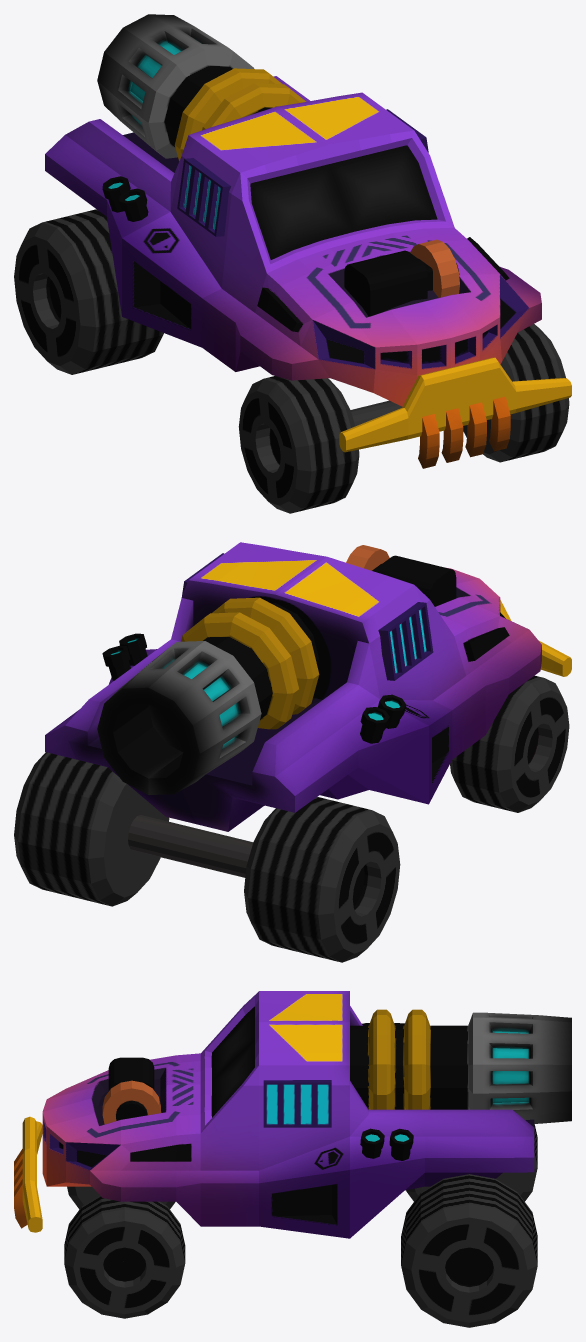
The model's file is tiny-racer-9.glb.
3 views of the same model, one above another, from view 1: azimuth 30°, elevation 25°; view 2: azimuth 150°, elevation 25°; view 3: azimuth 270°, elevation 25° (orthographic). The views are drawn at different scales.
Visible parts, largest first — view 1: Cube.216, wheel_0, Cylinder.248, wheel_1, Plane.044, Cube.213, Cube.214, Cube.215, Cylinder.247, Cylinder.249; view 2: Cube.216, wheel_1, Cylinder.248, wheel_0, Cube.215, Cylinder.249, Cube.213, Plane.044, Cylinder.247; view 3: Cube.216, Cylinder.248, wheel_1, wheel_0, Cube.215, Plane.044, Cylinder.247, Cylinder.249, Cube.213, Cube.214.
Boxes of the visible parts, x1,y1,x2,y2 form: Cube.216: (45,76,541,406); wheel_0: (238,324,569,513); Cylinder.248: (97,14,306,160); wheel_1: (14,209,163,374); Plane.044: (339,357,571,452); Cube.213: (344,250,432,316); Cube.214: (418,396,510,468); Cube.215: (177,109,428,236); Cylinder.247: (410,239,459,297); Cylinder.249: (102,176,148,221); Cube.216: (45,542,541,831); wheel_1: (14,752,400,962); Cylinder.248: (97,597,319,794); wheel_0: (450,675,569,812); Cube.215: (182,553,433,680); Cylinder.249: (102,633,406,743); Cube.213: (372,555,456,606); Plane.044: (500,600,571,676); Cylinder.247: (346,545,389,570); Cube.216: (42,991,534,1238); Cylinder.248: (350,1009,571,1123); wheel_1: (401,1124,537,1327); wheel_0: (64,1186,185,1318); Cube.215: (263,1080,331,1127); Plane.044: (22,1116,42,1232); Cylinder.247: (102,1080,161,1124); Cylinder.249: (360,1023,413,1160); Cube.213: (108,1057,154,1091); Cube.214: (14,1149,27,1228).
Bounding box in the file's own units: 0.8223 × 0.7003 × 1.42.
Materials: 1 (1 with a texture image).
